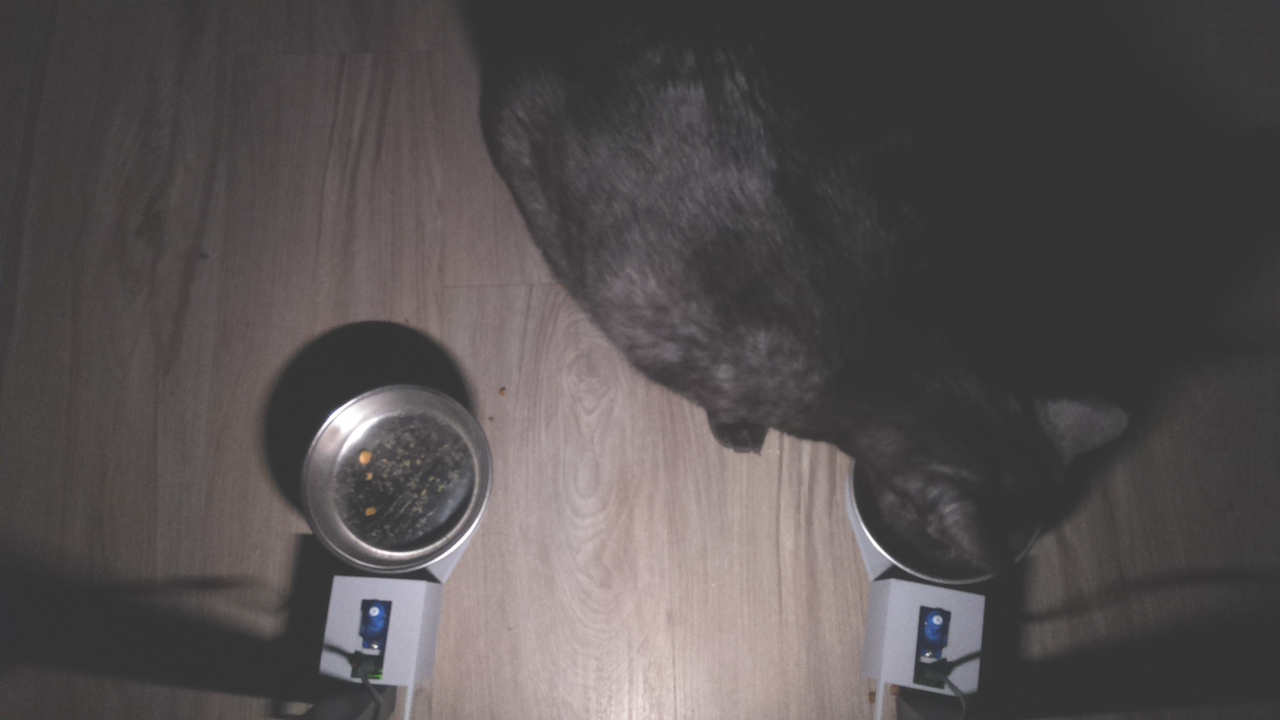open_bowl: (294, 378, 512, 570)
saki_eating: (812, 351, 1139, 591)
